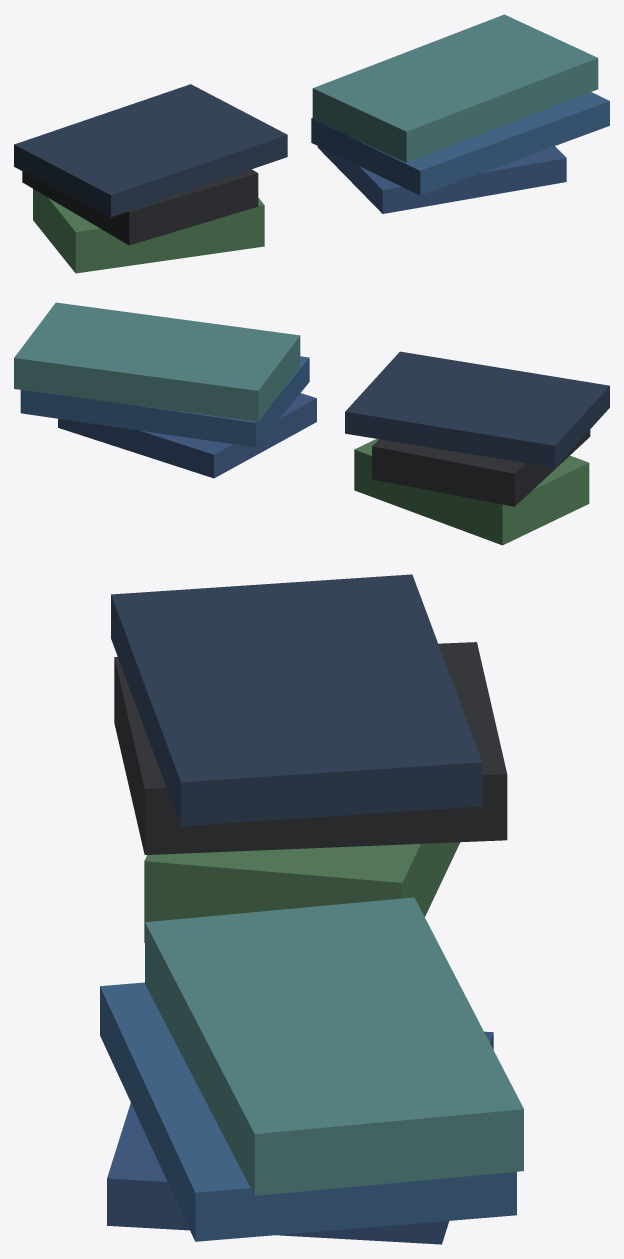
The model's file is book-stack-49.glb.
3 renders of one model, top to bottom at view 1: azimuth 30°, elevation 25°; view 2: azimuth 150°, elevation 25°; view 3: azimuth 270°, elevation 25°, orthographic. The views are drawn at different scales.
Parts seen in each view (by area): view 1: book_stack_49; view 2: book_stack_49; view 3: book_stack_49.
Boxes of the visible parts, box(x1,y1,x2,y2) form: book_stack_49: box(14, 14, 609, 273); book_stack_49: box(14, 302, 609, 545); book_stack_49: box(100, 574, 523, 1244).
Bounding box in the file's own units: 0.6334 × 0.1079 × 0.216.
